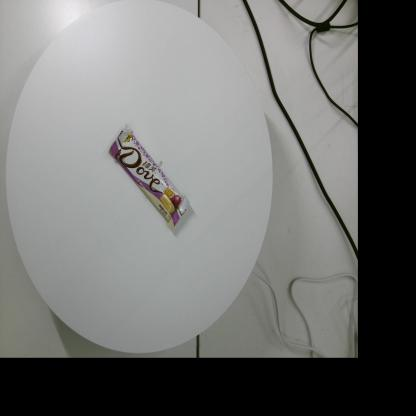Chocolate: (108, 124, 190, 230)
